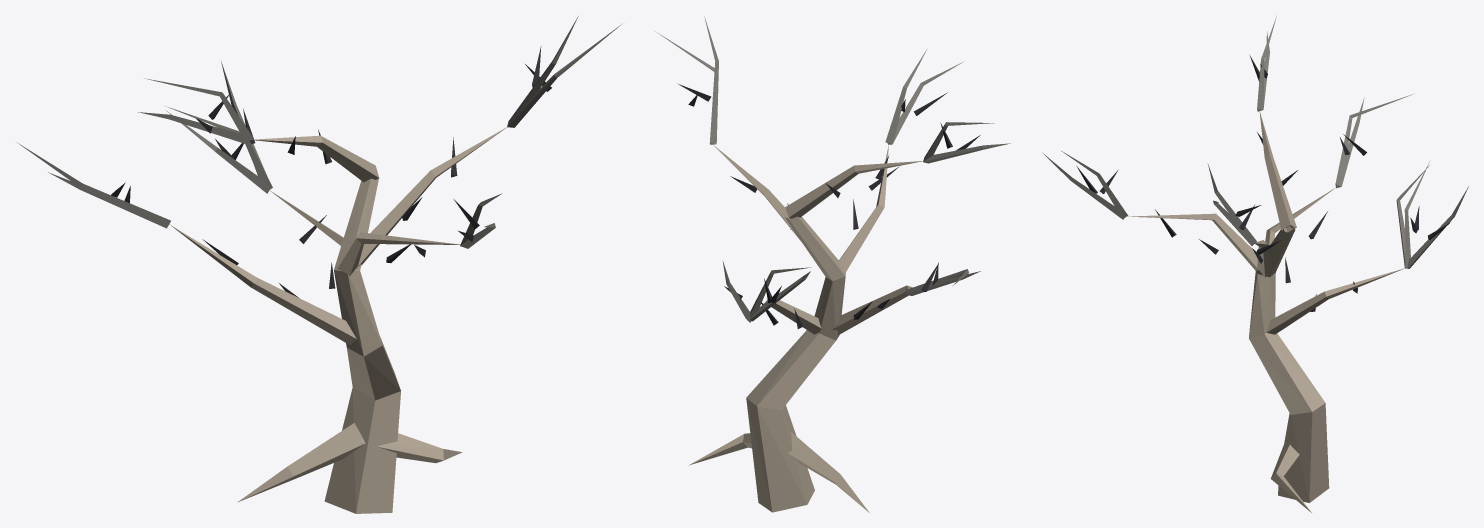
File: Circle7Piece_Tree1.obj
3 renders of one model, left to right at view 1: azimuth 30°, elevation 25°; view 2: azimuth 150°, elevation 25°; view 3: azimuth 270°, elevation 25°, orthographic. The views are drawn at different scales.
Parts seen in each view (by area): view 1: Circle7Piece_Tree1; view 2: Circle7Piece_Tree1; view 3: Circle7Piece_Tree1.
Boxes of the visible parts, x1,y1,x2,y2 form: Circle7Piece_Tree1: [16, 16, 622, 513]; Circle7Piece_Tree1: [655, 16, 1010, 512]; Circle7Piece_Tree1: [1042, 16, 1468, 512].
Size of the model in its own units: 5.25 by 5.19 by 5.17.
1 material, 1 textured.
